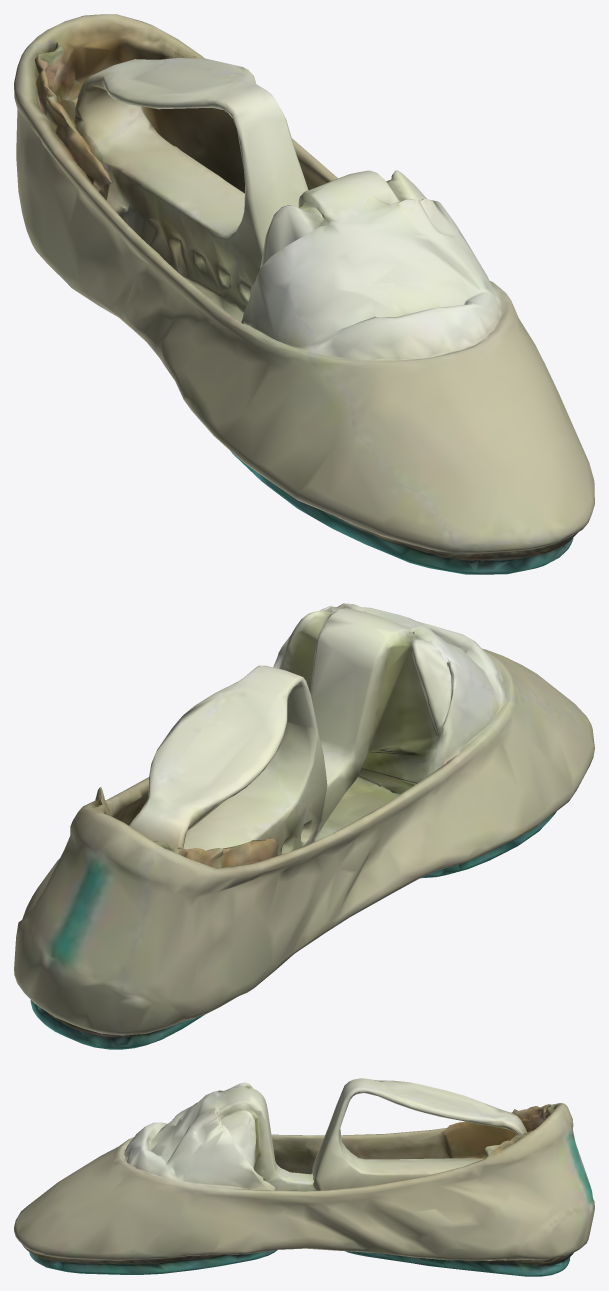
File: Cream_Tieks_Italian_Leather_Ballet_Flats-high.glb
The picture shows the model from 3 angles, top to bottom: view 1: azimuth 30°, elevation 25°; view 2: azimuth 150°, elevation 25°; view 3: azimuth 270°, elevation 25°; orthographic projection. The views are drawn at different scales.
Parts seen in each view (by area): view 1: Cream_Tieks_Italian_Leather_Ballet_Flats; view 2: Cream_Tieks_Italian_Leather_Ballet_Flats; view 3: Cream_Tieks_Italian_Leather_Ballet_Flats.
Boxes of the visible parts, bbox=[...] form: Cream_Tieks_Italian_Leather_Ballet_Flats: bbox=[14, 14, 594, 574]; Cream_Tieks_Italian_Leather_Ballet_Flats: bbox=[14, 603, 594, 1049]; Cream_Tieks_Italian_Leather_Ballet_Flats: bbox=[14, 1078, 594, 1276].
Bounding box in the file's own units: 0.0835 × 0.0798 × 0.2456.
Materials: 1 (1 with a texture image).
